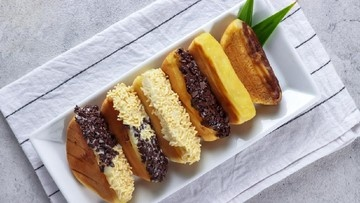pukis: (30, 89, 136, 199)
